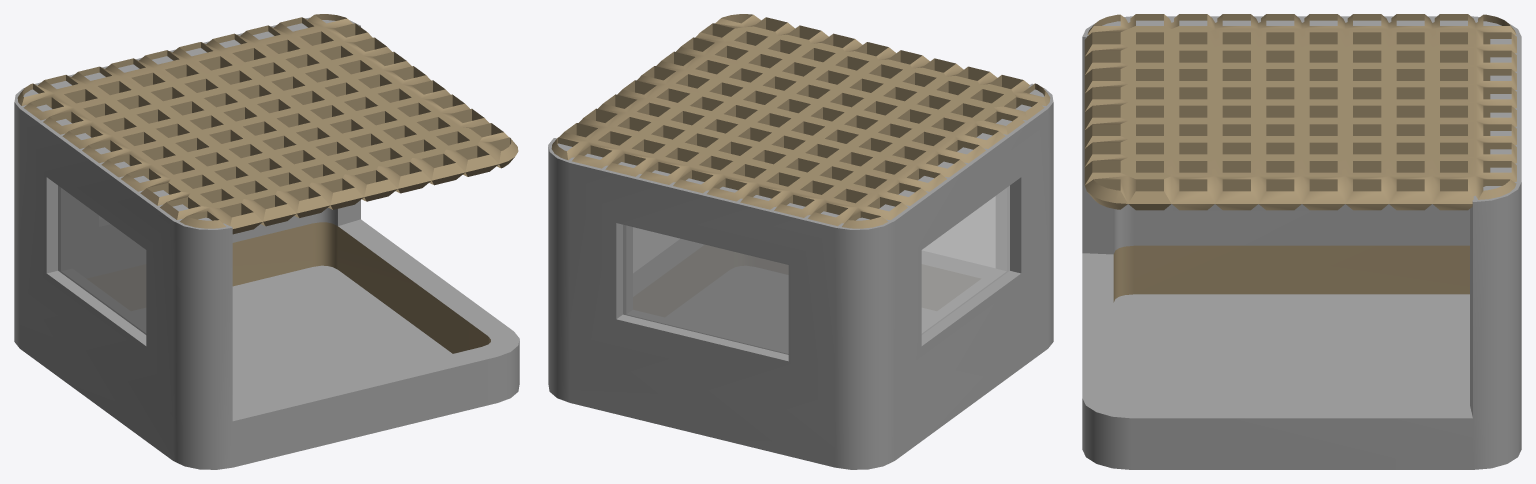
File: Kantin.fbx
3 views of the same model, side by side, from view 1: azimuth 30°, elevation 25°; view 2: azimuth 150°, elevation 25°; view 3: azimuth 270°, elevation 25° (orthographic). The views are drawn at different scales.
Visible parts, largest first — view 1: Kantin; view 2: Kantin; view 3: Kantin.
Boxes of the visible parts, box(x1,y1,x2,y2) form: Kantin: box(14, 14, 519, 469); Kantin: box(548, 14, 1053, 469); Kantin: box(1082, 14, 1521, 469).
Bounding box in the file's own units: 63.07 × 43.47 × 63.07.
